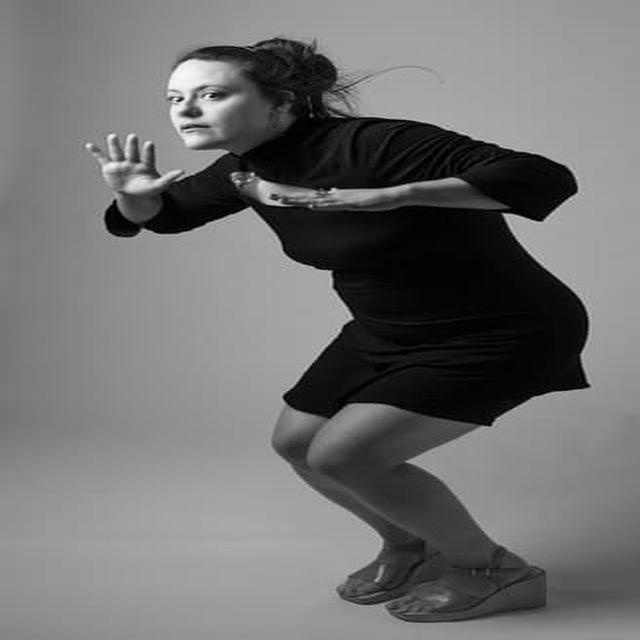Fear: (167, 60, 258, 149)
